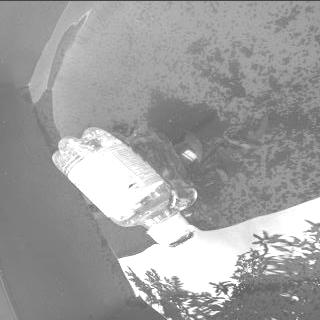bottle: (46, 124, 196, 246)
